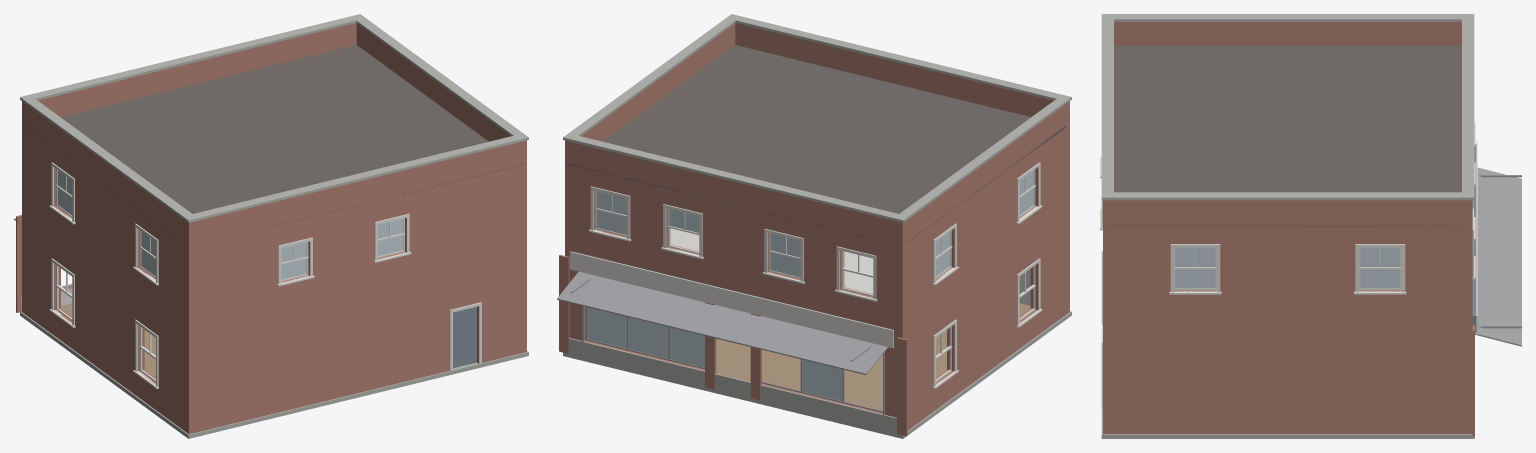
The model's file is SM_Shop_A.fbx.
3 views of the same model, side by side, from view 1: azimuth 30°, elevation 25°; view 2: azimuth 150°, elevation 25°; view 3: azimuth 270°, elevation 25° (orthographic). The views are drawn at different scales.
Parts seen in each view (by area): view 1: SM_Shop_A, SM_Shop_A_Glass; view 2: SM_Shop_A, SM_Shop_A_Glass; view 3: SM_Shop_A, SM_Shop_A_Glass.
Part boxes in pixels (x1=…): SM_Shop_A: x1=14, y1=14, x2=528, y2=438; SM_Shop_A_Glass: x1=57, y1=170, x2=403, y2=279; SM_Shop_A: x1=557, y1=14, x2=1071, y2=438; SM_Shop_A_Glass: x1=587, y1=170, x2=1033, y2=401; SM_Shop_A: x1=1100, y1=14, x2=1521, y2=438; SM_Shop_A_Glass: x1=1175, y1=247, x2=1400, y2=288.
Size of the model in its own units: 14.4 by 8.65 by 13.7.
